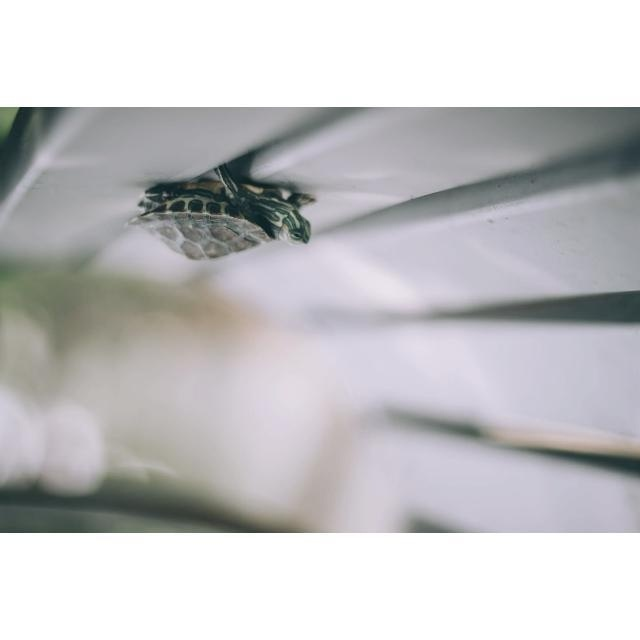turtle: (130, 162, 318, 261)
